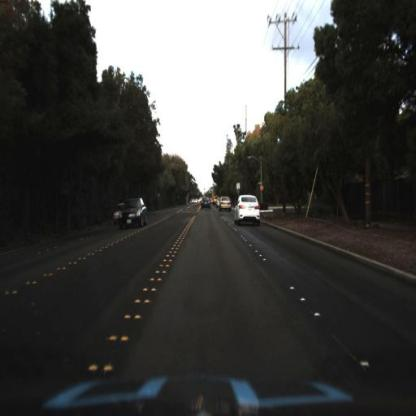car: (235, 195, 264, 230), (115, 201, 149, 228), (219, 195, 230, 216), (201, 198, 213, 214)
